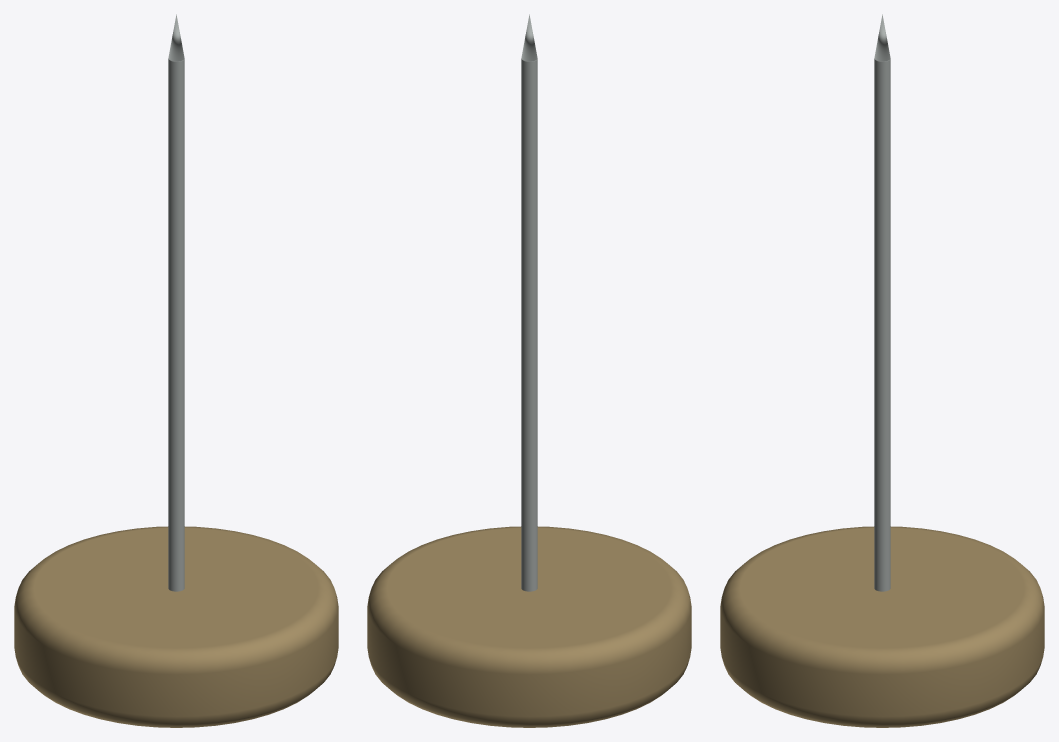
The model's file is shop_004_receipt_spike.glb.
3 renders of one model, left to right at view 1: azimuth 30°, elevation 25°; view 2: azimuth 150°, elevation 25°; view 3: azimuth 270°, elevation 25°, orthographic.
Visible parts, largest first — view 1: Weighted_Base, Static_Brushed_steel; view 2: Weighted_Base, Static_Brushed_steel; view 3: Weighted_Base, Static_Brushed_steel.
Part boxes in pixels (x1=…): Weighted_Base: x1=14, y1=526, x2=338, y2=727; Static_Brushed_steel: x1=168, y1=14, x2=184, y2=591; Weighted_Base: x1=367, y1=526, x2=691, y2=727; Static_Brushed_steel: x1=521, y1=14, x2=537, y2=591; Weighted_Base: x1=720, y1=526, x2=1044, y2=727; Static_Brushed_steel: x1=874, y1=14, x2=890, y2=591.
Bounding box in the file's own units: 0.098 × 0.2175 × 0.098.
